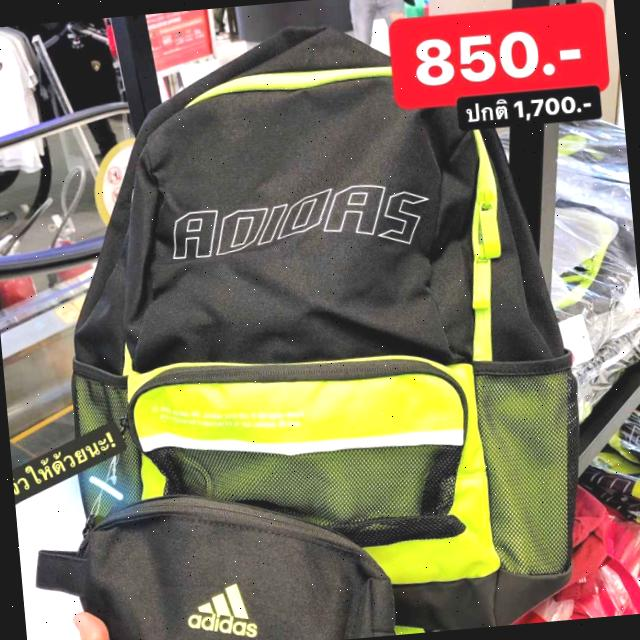Handbag: (36, 0, 597, 640)
